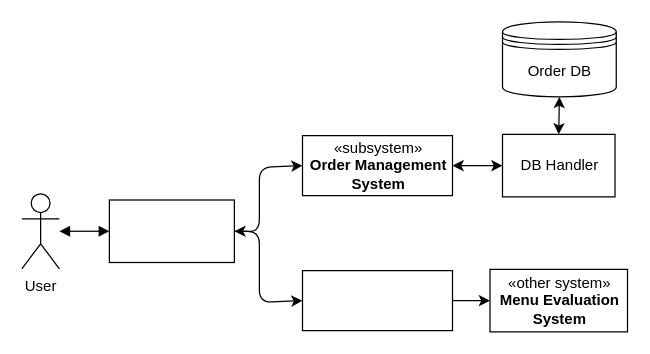
The diagram is 650 pixels wide and 354 high, and some of its shapes have lost their labels. The shapes that lost their labels are listed below. From the top down, each one's centre as x and y in pixels, then its label:
At (171,230): "User Interface".
At (376,300): "«subsystem» Order Evaluation System".
